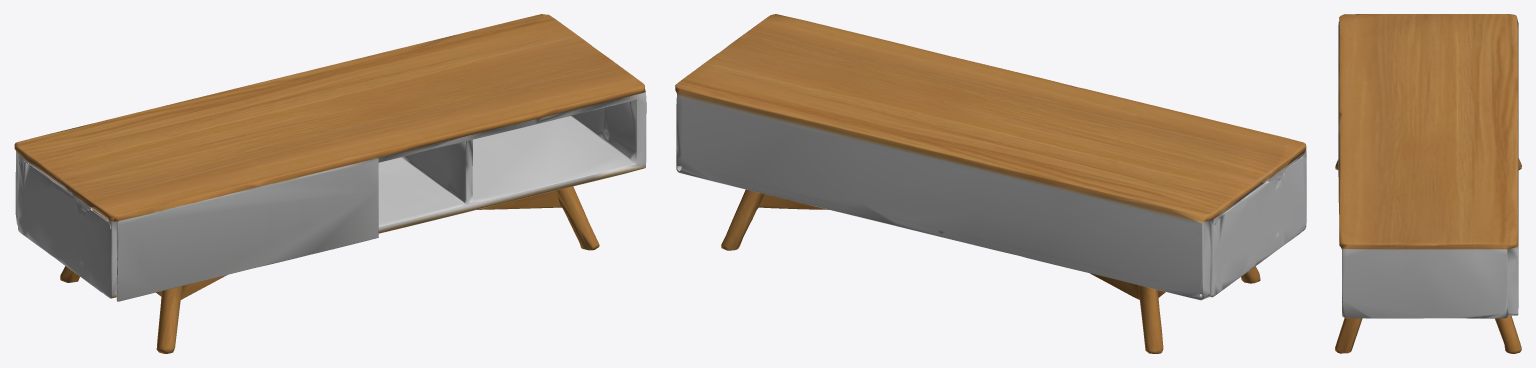
File: living-tv-cabinet.glb
3 renders of one model, left to right at view 1: azimuth 30°, elevation 25°; view 2: azimuth 150°, elevation 25°; view 3: azimuth 270°, elevation 25°, orthographic. The views are drawn at different scales.
Visible parts, largest first — view 1: world; view 2: world; view 3: world.
Boxes of the visible parts, x1,y1,x2,y2 form: world: (14,14,646,353); world: (675,14,1306,353); world: (1335,14,1521,353).
Bounding box in the file's own units: 1 × 0.2657 × 0.343.
Materials: 1 (1 with a texture image).
